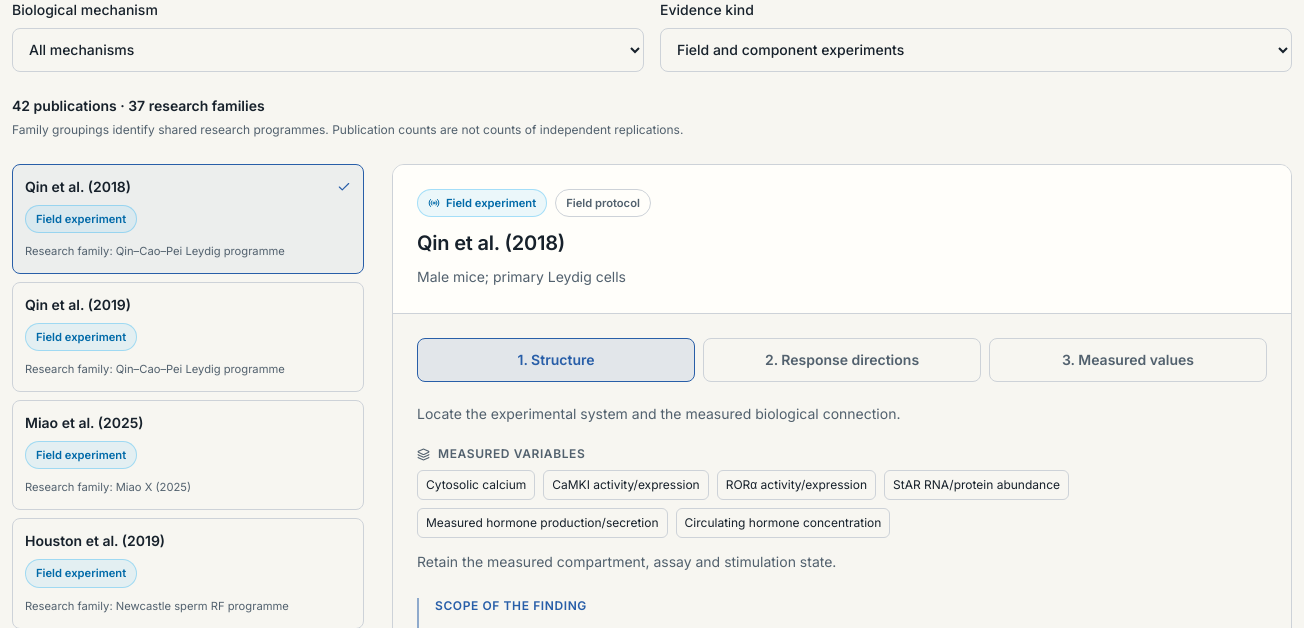
Scenario: SteroidogenesisEvidenceExplorer › starts with biological variables, then reveals the intervention and response without equating protocol quantities with effects
(page scrolled)
Expected: the text "Retain the measured compartment, assay and stimulation state." is shown, [417,553,836,570]
Step 1. Click the button "2. Response directions" → (842, 360), box [703,338,981,382]
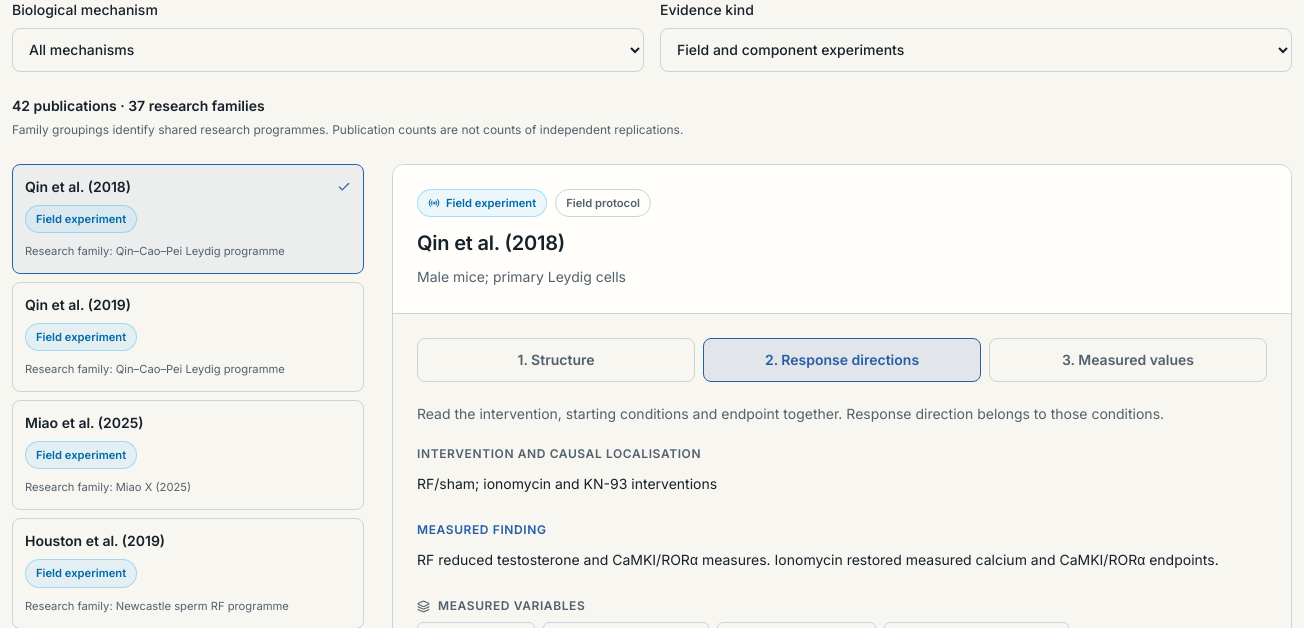
Result: the text "RF/sham; ionomycin and KN-93 interventions" is shown at [417,475,717,492]
Result: the text "RF reduced testosterone and CaMKI/RORα measures. Ionomycin restored measured calcium and CaMKI/RORα endpoints." is shown at [417,551,1219,568]
